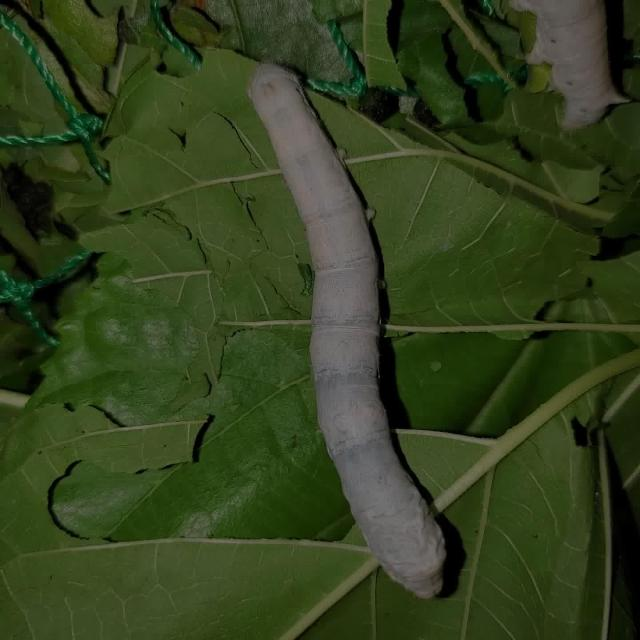Healthy: (214, 37, 492, 615)
